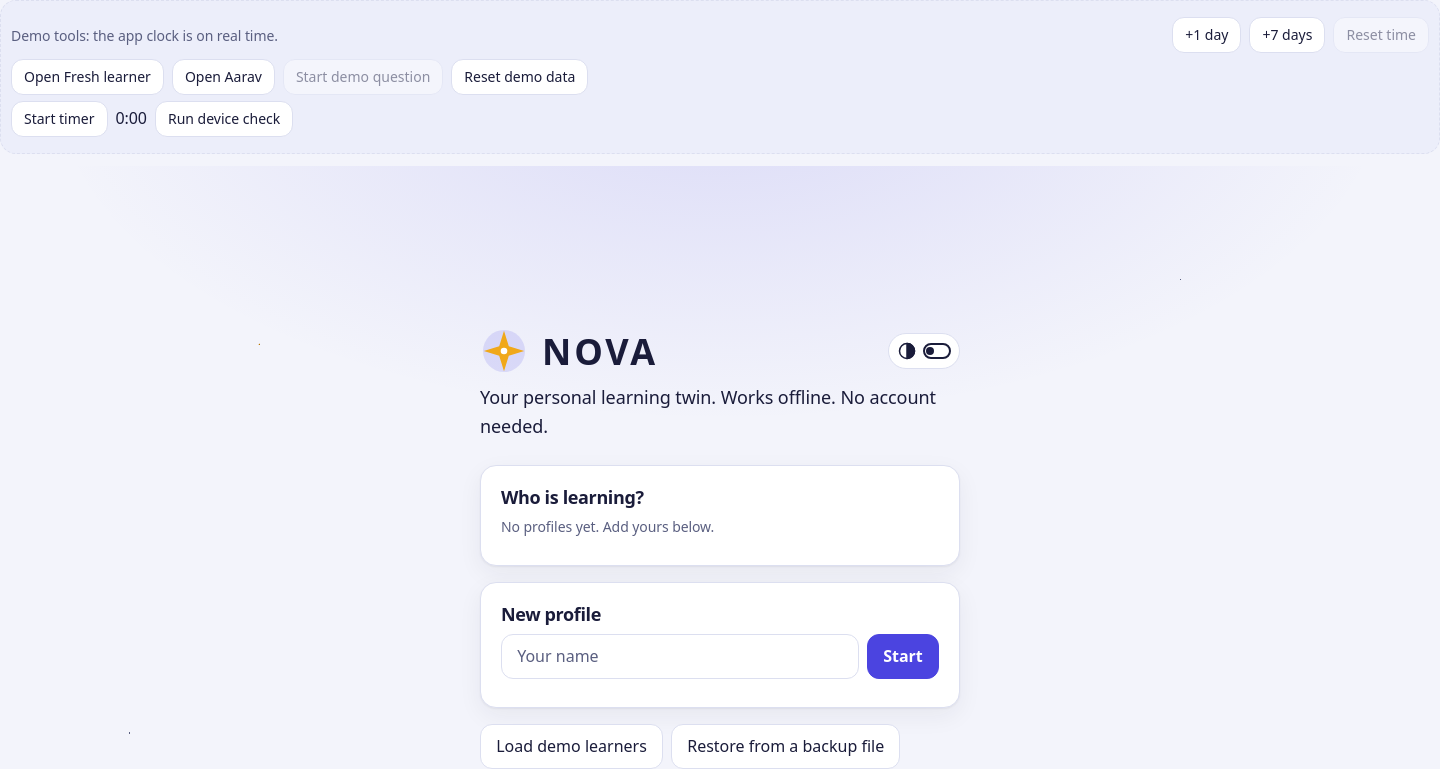
it: the whole 3-minute demo, played through the real screens › opening the demo learners twice never creates duplicates
This screenshot has width=1440, height=769.
Expected: the element "Demo tools" is shown, [0,0,1439,154]
Click the button "Open Fresh learner": click(87, 77) [11,59,164,95]
(page scrolled)
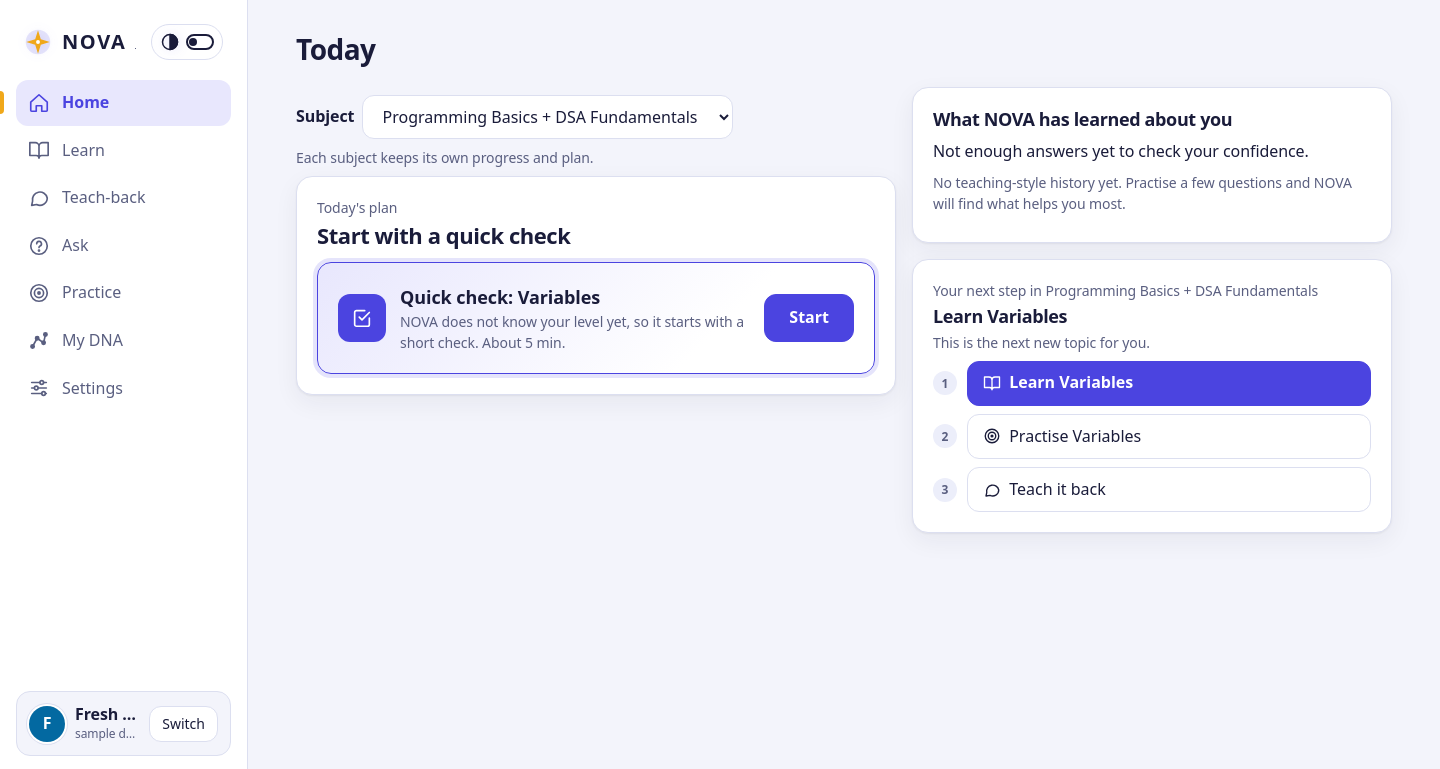
Click the button "Switch": click(184, 724) [149,706,218,742]
(page scrolled)
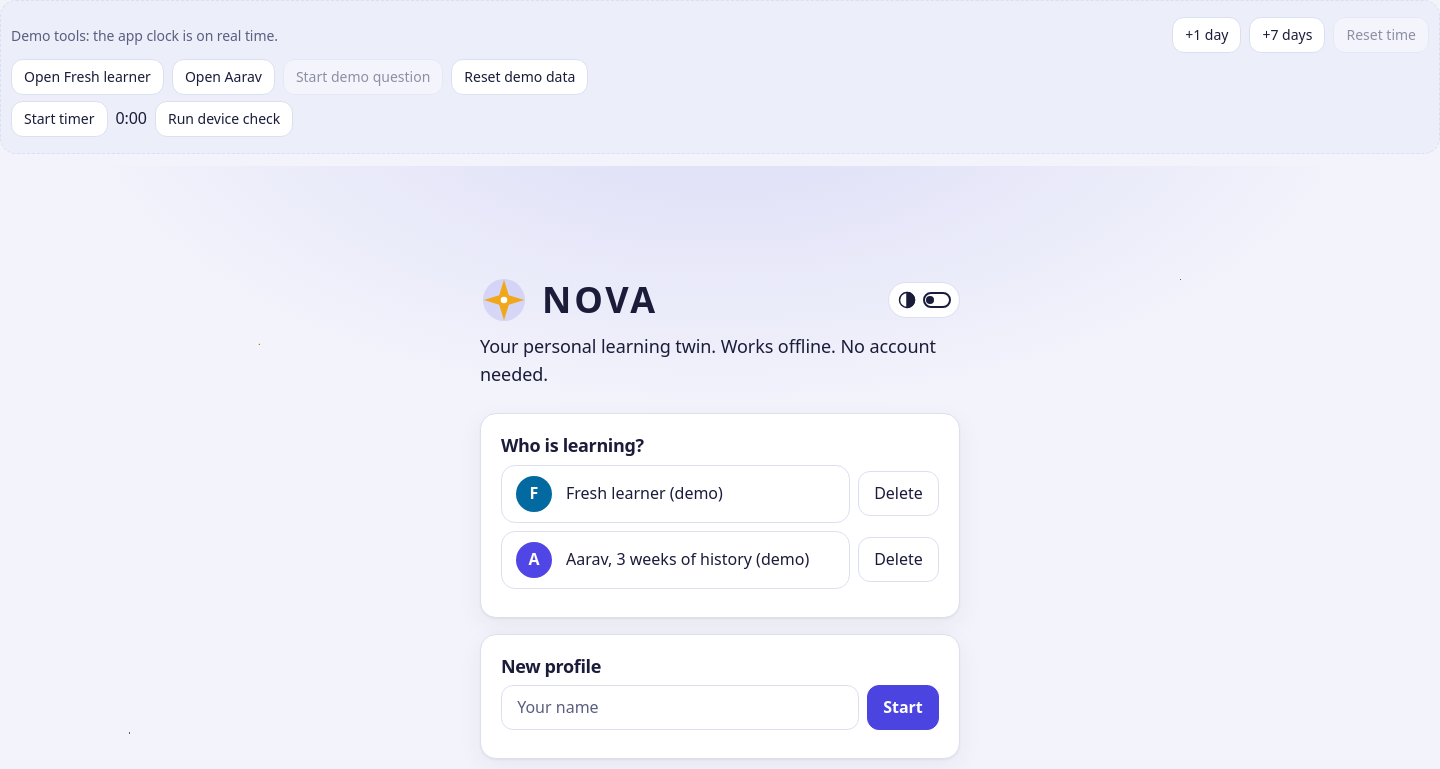
Expected: the element "Demo tools" is shown, [0,0,1439,154]
Click the button "Open Fresh learner": click(87, 77) [11,59,164,95]
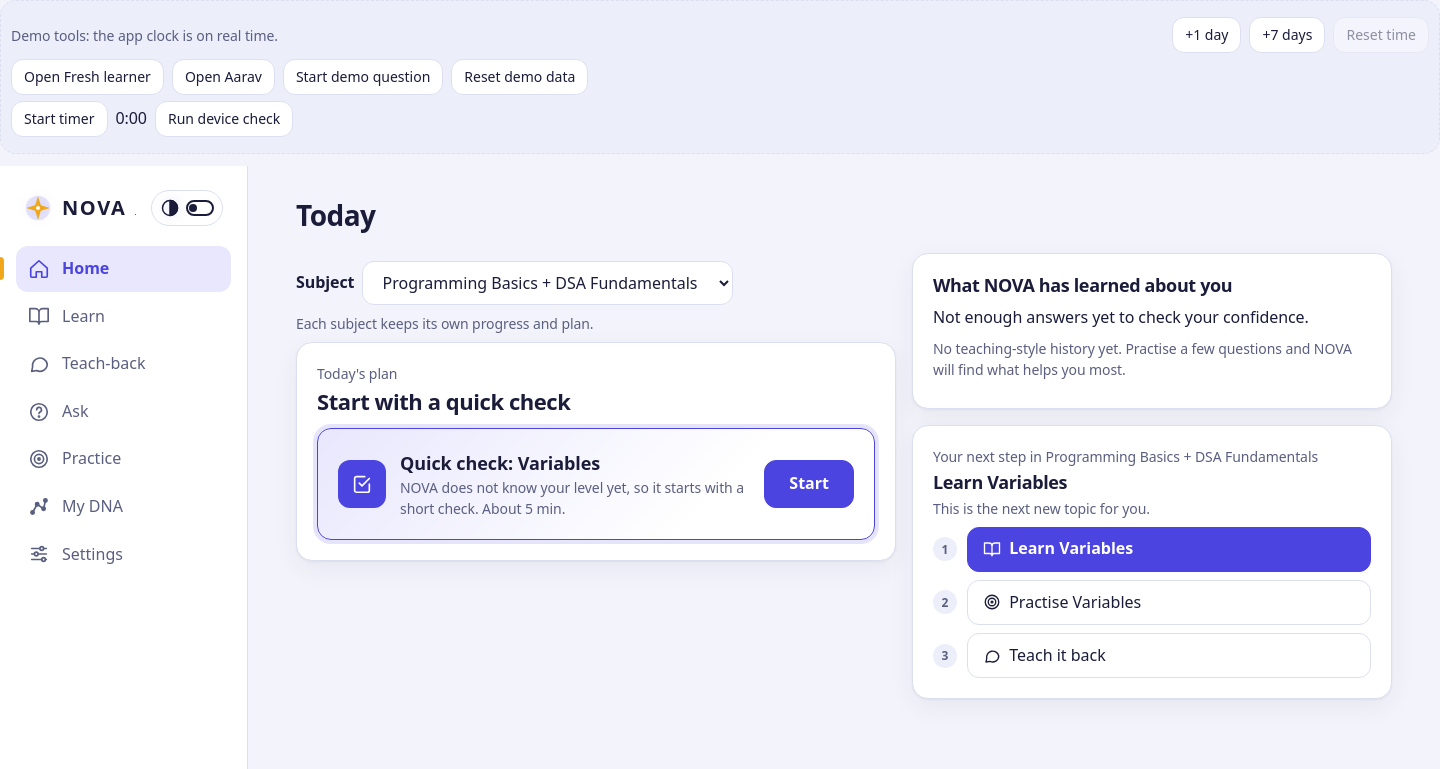
Click the button "Open Aarav": click(223, 77) [172,59,275,95]
(page scrolled)
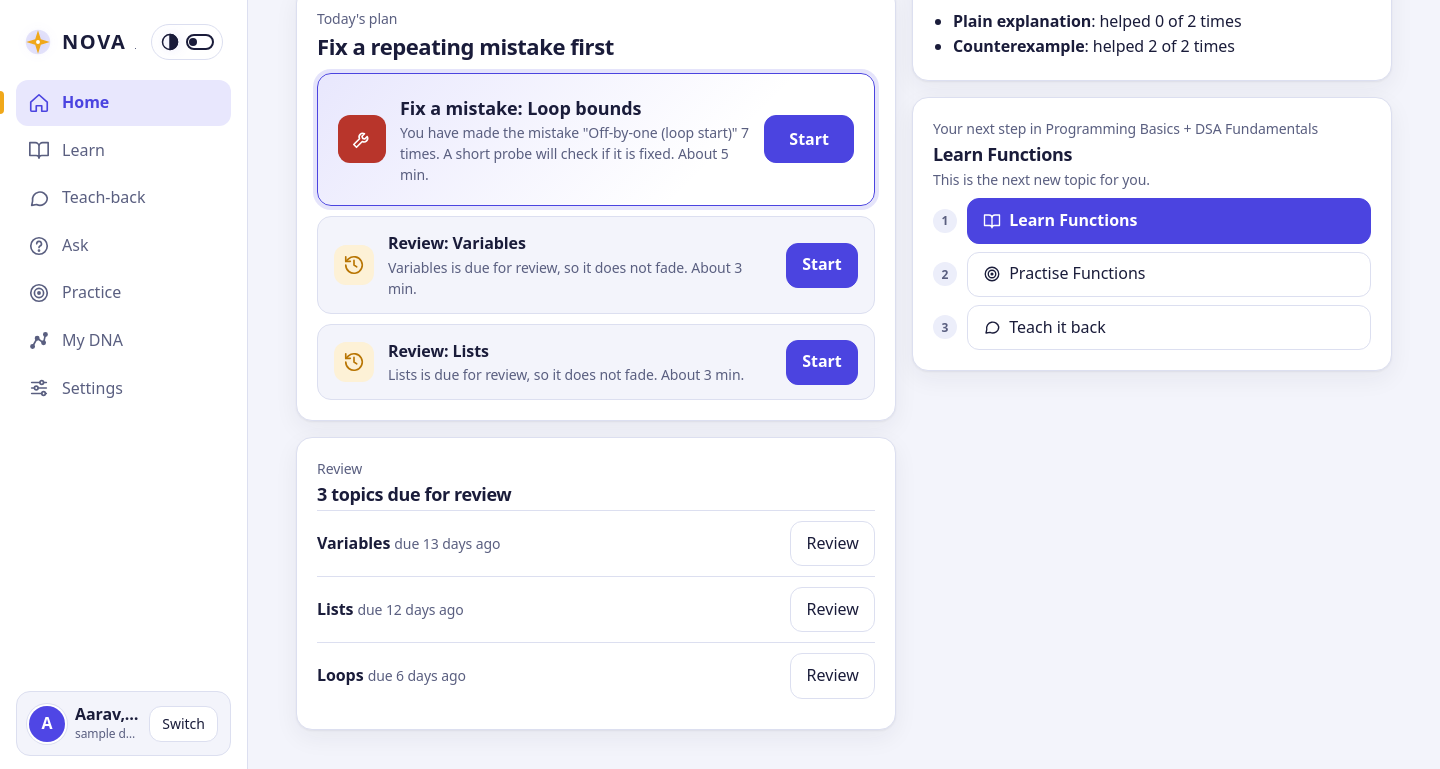
Result: the text "Aarav, 3 weeks of history (demo)" is shown at [75,704,139,725]
